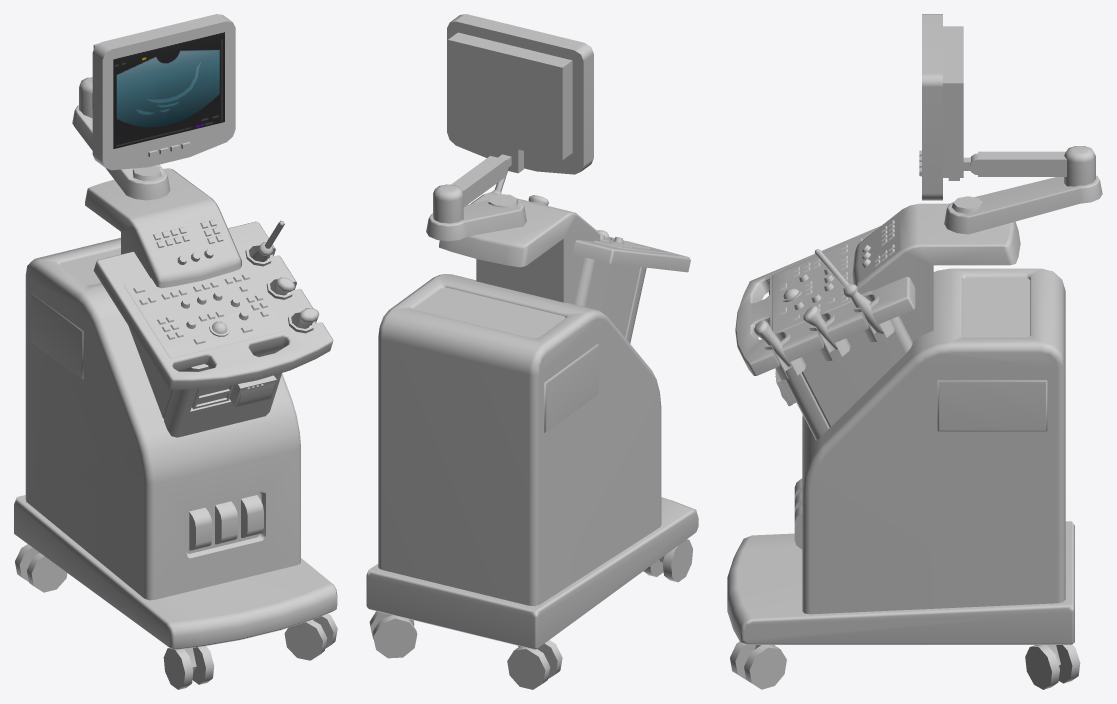
Rendered from Ultrasound_Machine_01.fbx.
The picture shows the model from 3 angles, left to right: view 1: azimuth 30°, elevation 25°; view 2: azimuth 150°, elevation 25°; view 3: azimuth 270°, elevation 25°; orthographic projection. The views are drawn at different scales.
Visible parts, largest first — view 1: Ultrasound_Machine_01; view 2: Ultrasound_Machine_01; view 3: Ultrasound_Machine_01.
Part boxes in pixels (x1=…): Ultrasound_Machine_01: x1=14, y1=14, x2=337, y2=689; Ultrasound_Machine_01: x1=366, y1=14, x2=698, y2=689; Ultrasound_Machine_01: x1=727, y1=14, x2=1102, y2=689.
Bounding box in the file's own units: 40.71 × 71.35 × 127.
